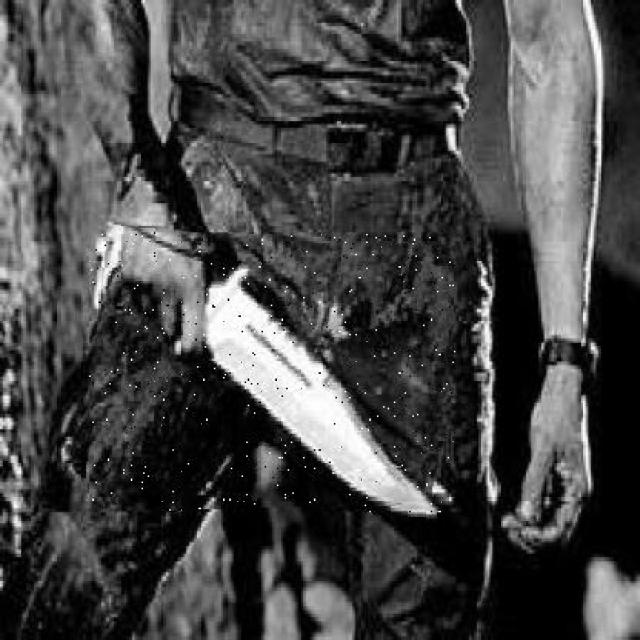knife: (90, 232, 456, 512)
